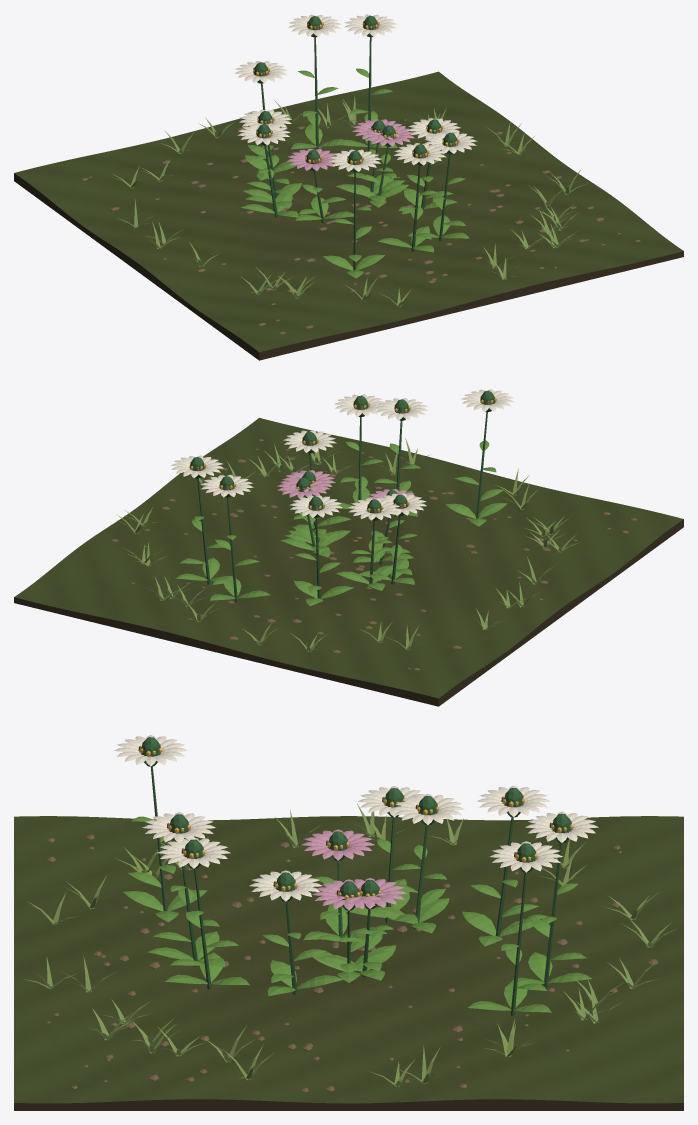
File: wildflowers.glb
3 renders of one model, top to bottom at view 1: azimuth 30°, elevation 25°; view 2: azimuth 150°, elevation 25°; view 3: azimuth 270°, elevation 25°, orthographic. The views are drawn at different scales.
Parts seen in each view (by area): view 1: Static_mesh; view 2: Static_mesh; view 3: Static_mesh, MeadowBasalLeaves.001_mesh, MeadowBasalLeaves.011_mesh, MeadowBasalLeaves.005_mesh, MeadowBasalLeaves.006_mesh, MeadowBasalLeaves.003_mesh, MeadowBasalLeaves.007_mesh, MeadowBasalLeaves.002_mesh, MeadowBasalLeaves.010_mesh, MeadowBasalLeaves.008_mesh, MeadowLeaves.011_mesh, MeadowLeaves.001_mesh (+2 smaller).
Part boxes in pixels (x1,y1,x2,y2): Static_mesh: (14,71,683,360); Static_mesh: (14,417,683,706); Static_mesh: (14,816,683,1110); MeadowBasalLeaves.001_mesh: (370,898,449,933); MeadowBasalLeaves.011_mesh: (509,952,591,986); MeadowBasalLeaves.005_mesh: (268,960,343,996); MeadowBasalLeaves.006_mesh: (462,911,533,946); MeadowBasalLeaves.003_mesh: (467,982,551,1012); MeadowBasalLeaves.007_mesh: (123,889,207,922); MeadowBasalLeaves.002_mesh: (147,931,224,967); MeadowBasalLeaves.010_mesh: (165,952,249,985); MeadowBasalLeaves.008_mesh: (317,945,396,980); MeadowLeaves.011_mesh: (532,883,586,960); MeadowLeaves.001_mesh: (393,844,446,907).
Bounding box in the file's own units: 3.5 × 1.08 × 3.5.
